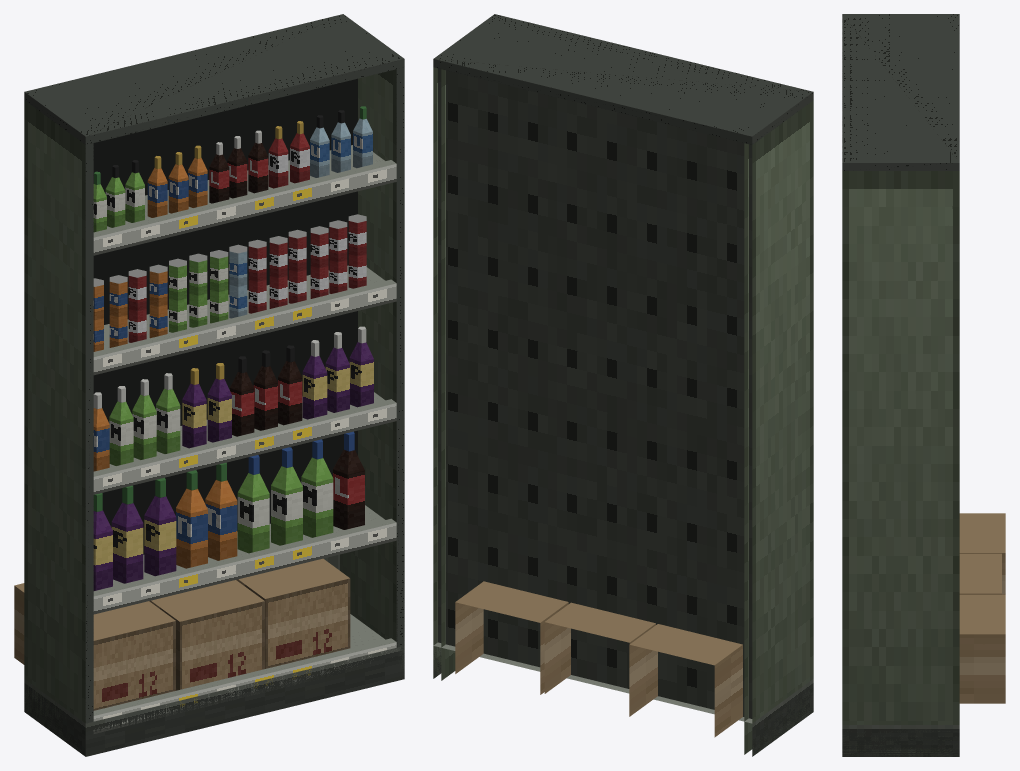
The model's file is gondola_endcap.glb.
3 views of the same model, side by side, from view 1: azimuth 30°, elevation 25°; view 2: azimuth 150°, elevation 25°; view 3: azimuth 270°, elevation 25° (orthographic). The views are drawn at different scales.
Parts seen in each view (by area): view 1: GondolaEndcap; view 2: GondolaEndcap; view 3: GondolaEndcap.
Boxes of the visible parts, box(x1,y1,x2,y2) form: GondolaEndcap: box(14, 14, 404, 756); GondolaEndcap: box(433, 14, 813, 756); GondolaEndcap: box(842, 14, 1005, 756).
Size of what is drawn, in the model's own units: 1.2 by 2.23 by 0.5563.
1 material, 1 textured.
